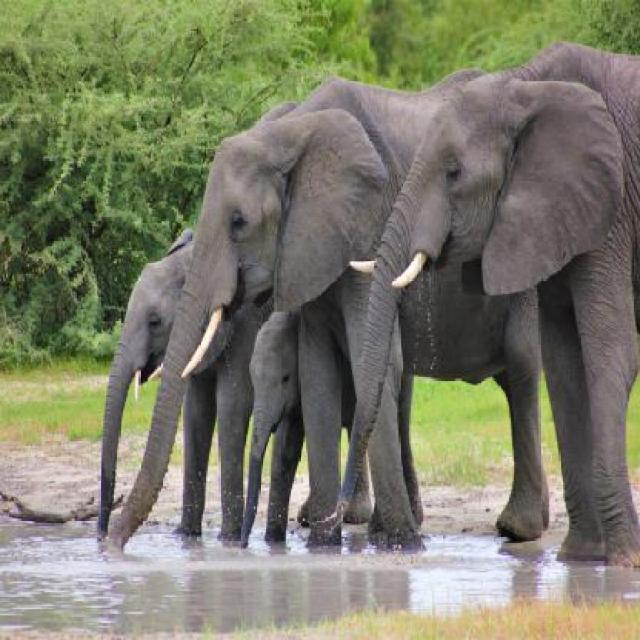Elephant: (340, 32, 638, 586), (110, 47, 422, 567), (80, 193, 211, 564), (225, 301, 360, 584)
